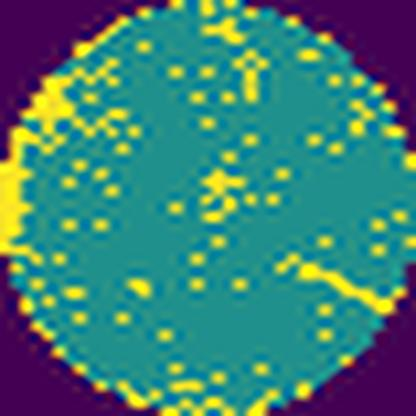Edge-Loc: (0, 71, 75, 271)
